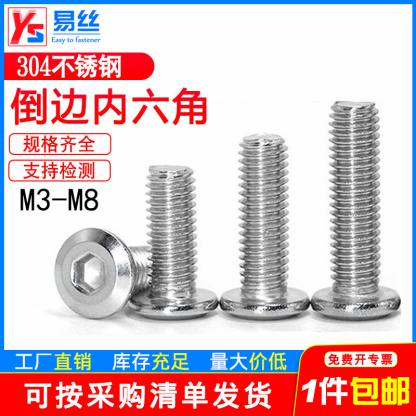FOD: (310, 96, 402, 324), (219, 128, 310, 320), (127, 163, 221, 319), (52, 228, 154, 322)
